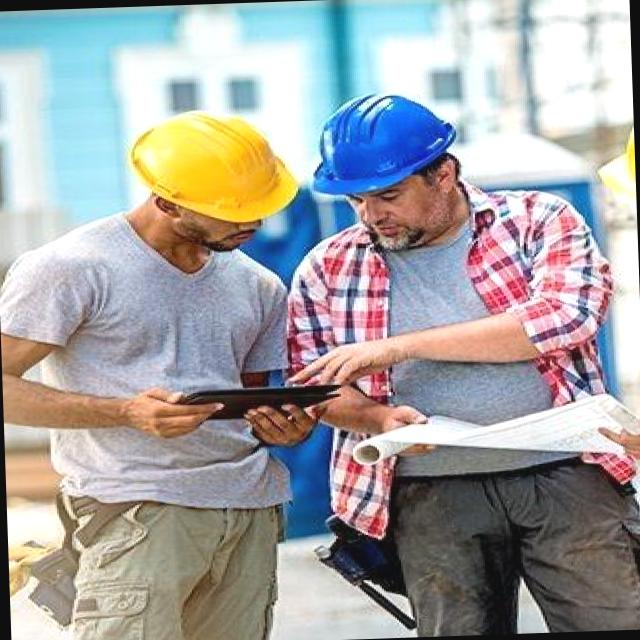helmet: (127, 102, 300, 233), (306, 88, 470, 208)
no-vest: (336, 240, 604, 475)
